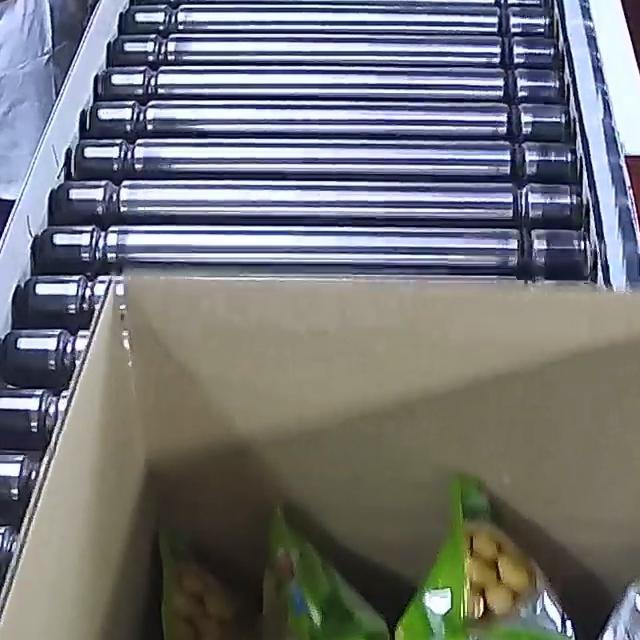yogurt: (92, 473, 640, 640)
